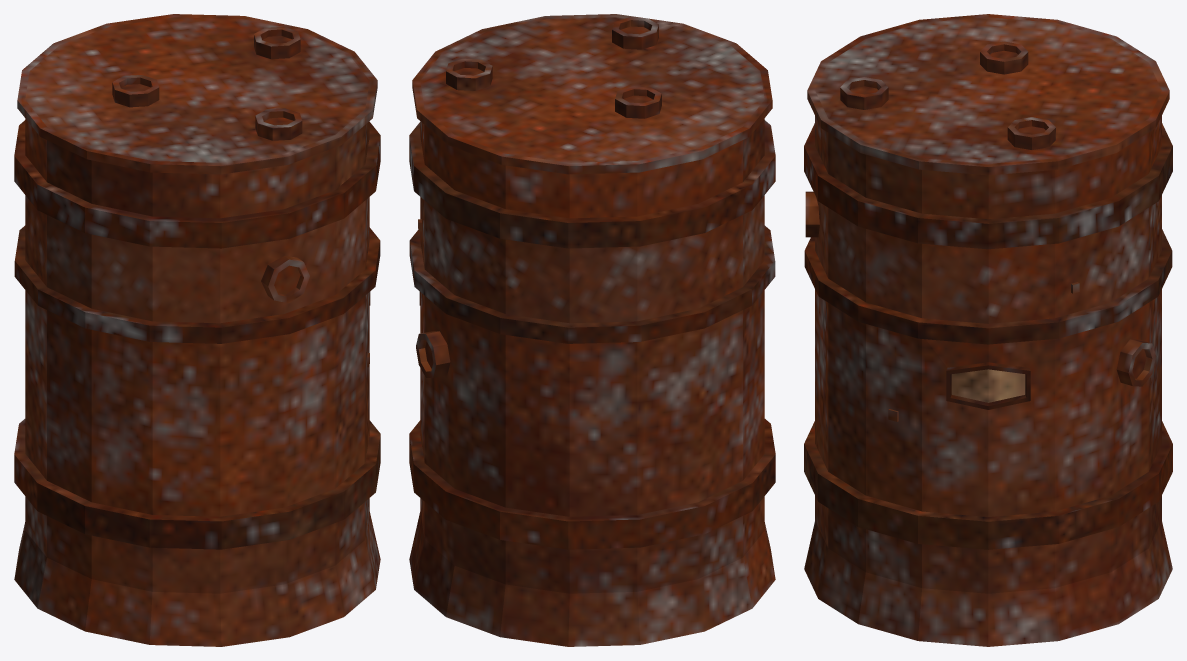
The model's file is Barrel.fbx.
3 renders of one model, left to right at view 1: azimuth 30°, elevation 25°; view 2: azimuth 150°, elevation 25°; view 3: azimuth 270°, elevation 25°, orthographic.
Parts seen in each view (by area): view 1: Barrel; view 2: Barrel; view 3: Barrel.
Boxes of the visible parts, x1,y1,x2,y2 form: Barrel: (14,14,380,646); Barrel: (409,14,775,646); Barrel: (804,14,1172,646).
Size of the model in its own units: 213 by 313 by 213.
3 materials, 3 textured.
